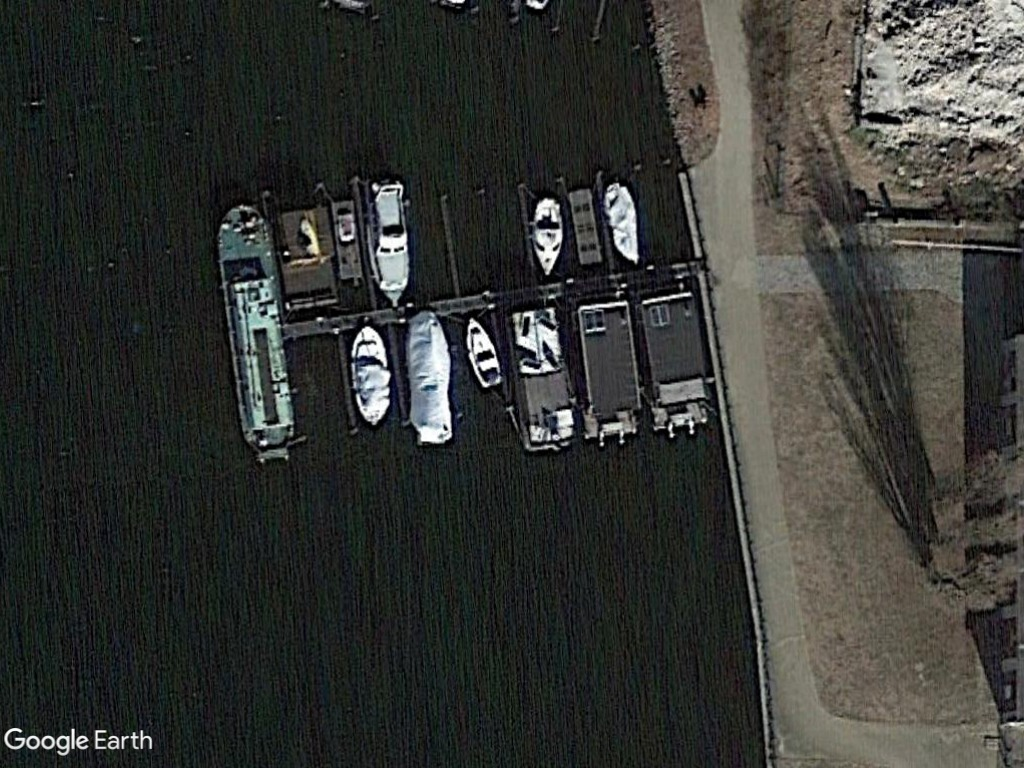boat: (215, 198, 303, 467), (402, 302, 458, 448), (361, 173, 417, 307), (344, 320, 397, 432), (524, 190, 569, 284), (458, 310, 506, 392)
